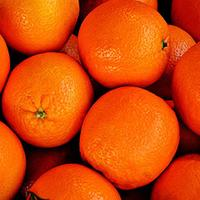orange: (76, 79, 179, 192), (73, 5, 184, 93), (4, 52, 93, 152)
